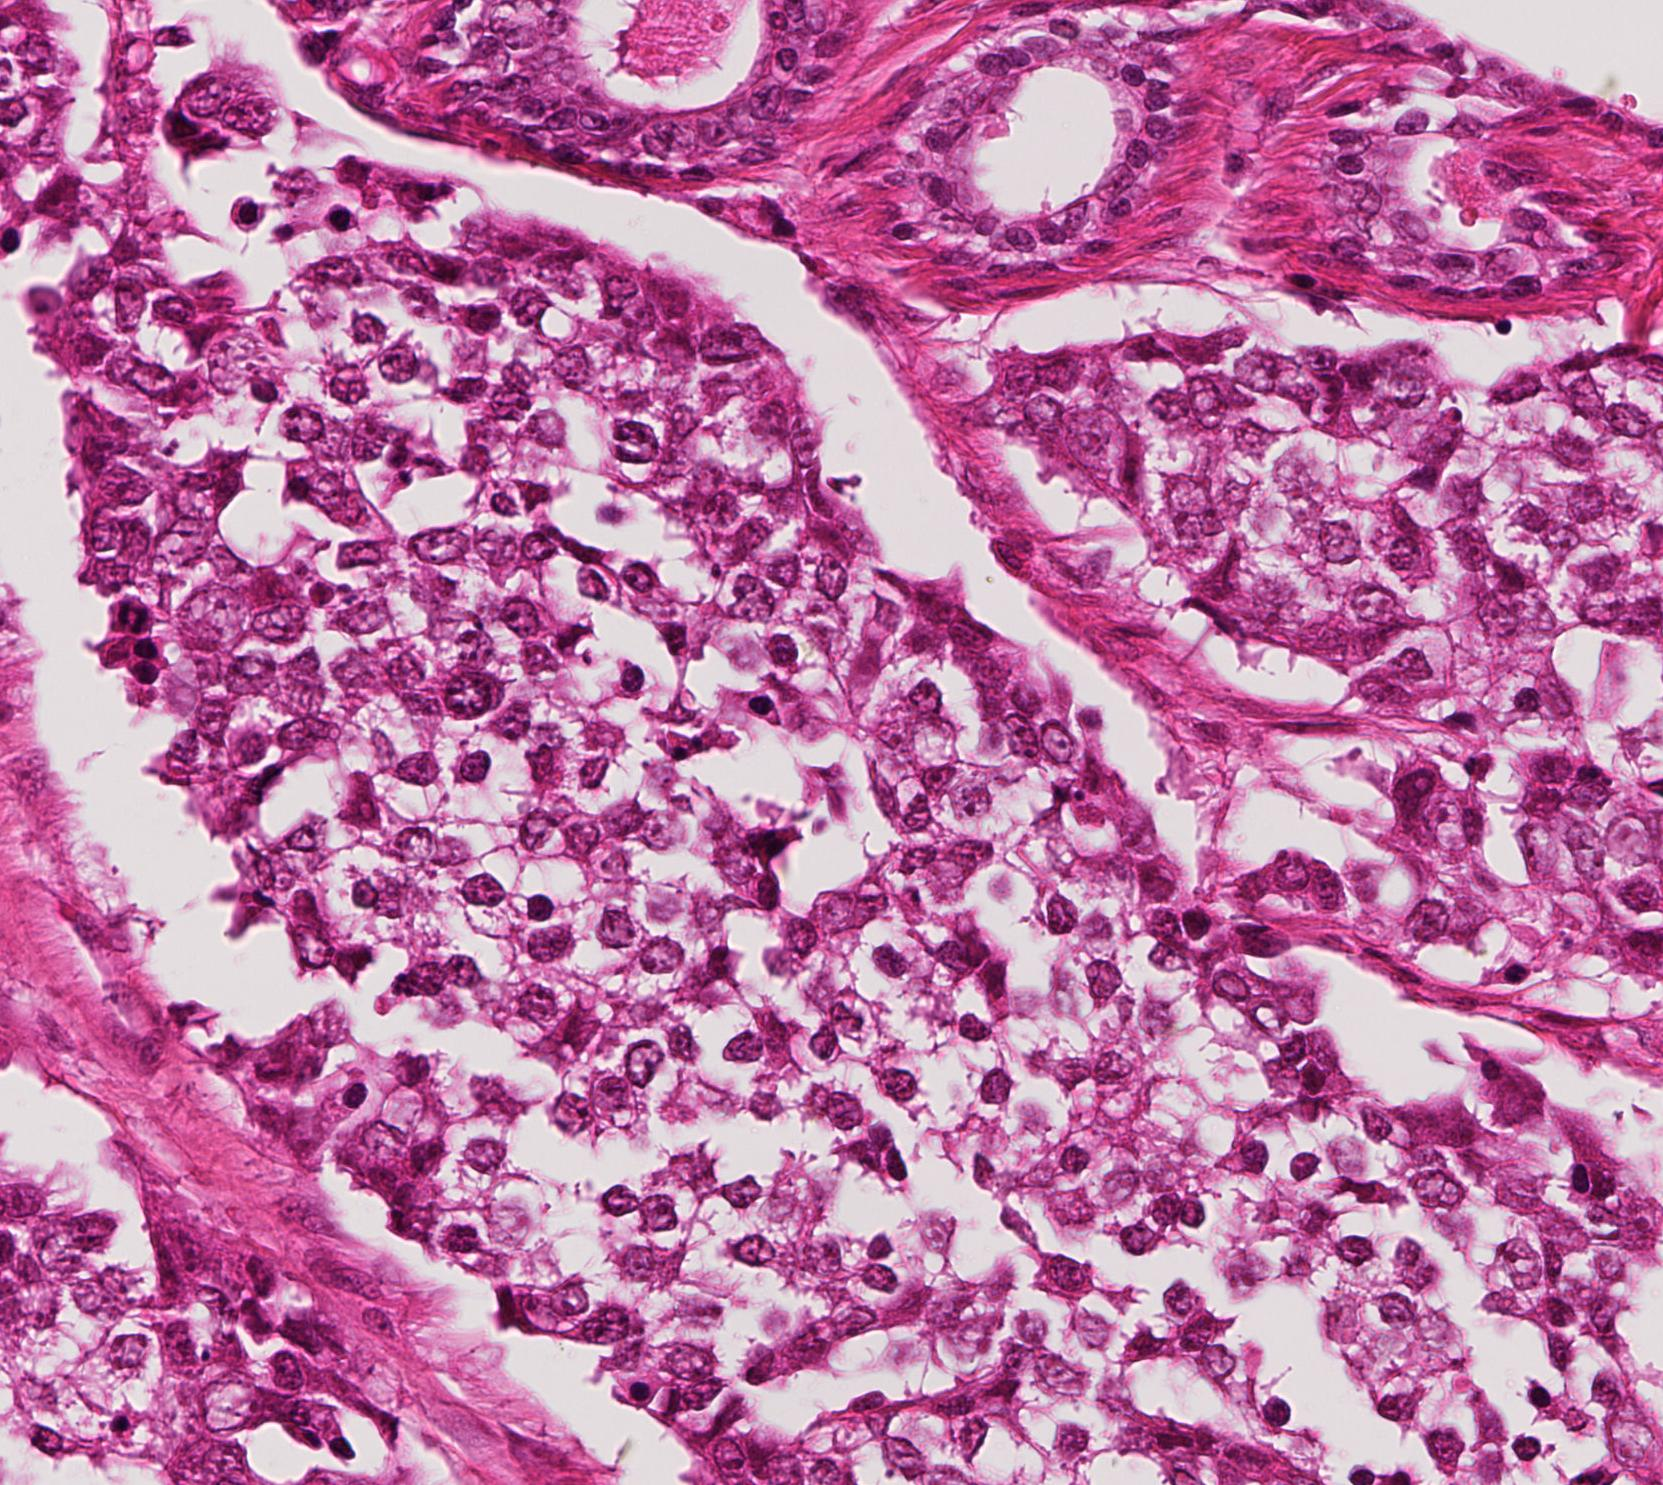mitosis: (99, 586, 159, 646)
